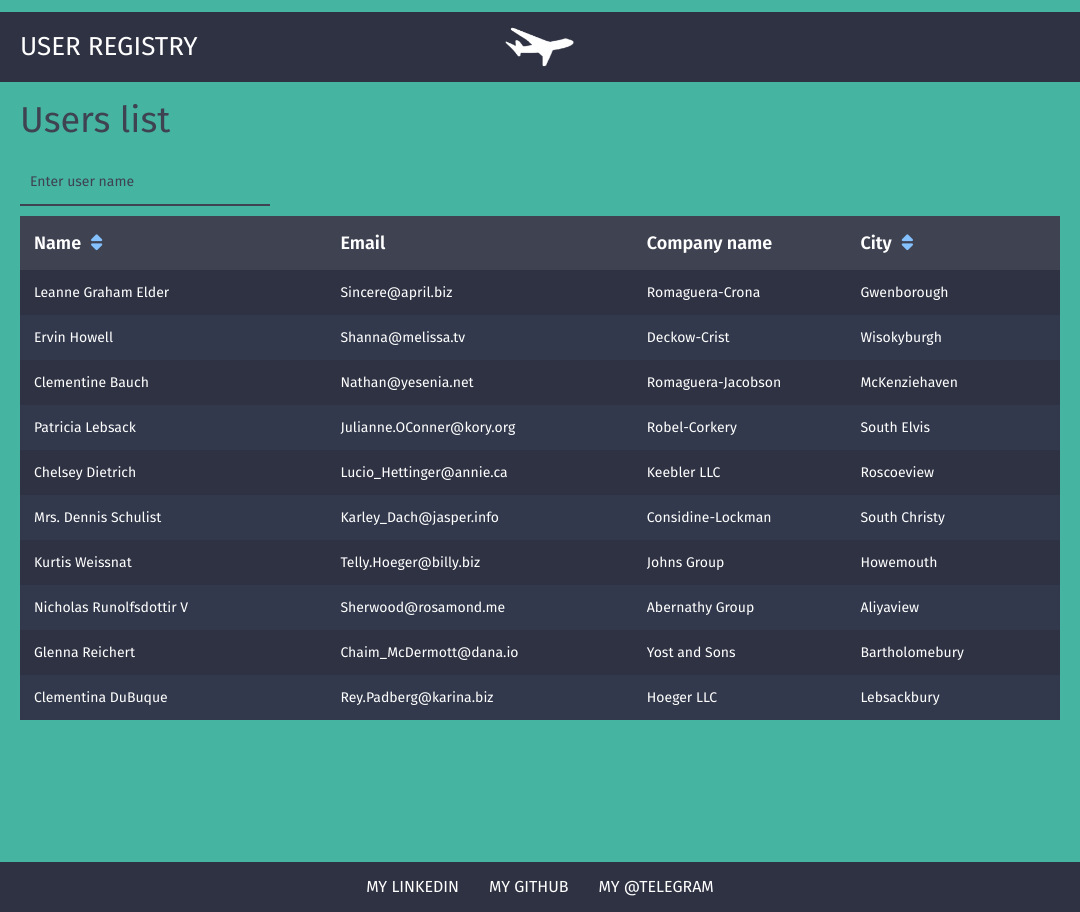
Test case: `User Page` › `initial loading` › should load right users
Check: the cell "Clementina DuBuque" is shown, box left=20, top=675, right=326, bottom=720
Click the row with test id "user" that starts with "Clementina DuBuque" at (540, 698), box left=20, top=675, right=1060, bottom=720
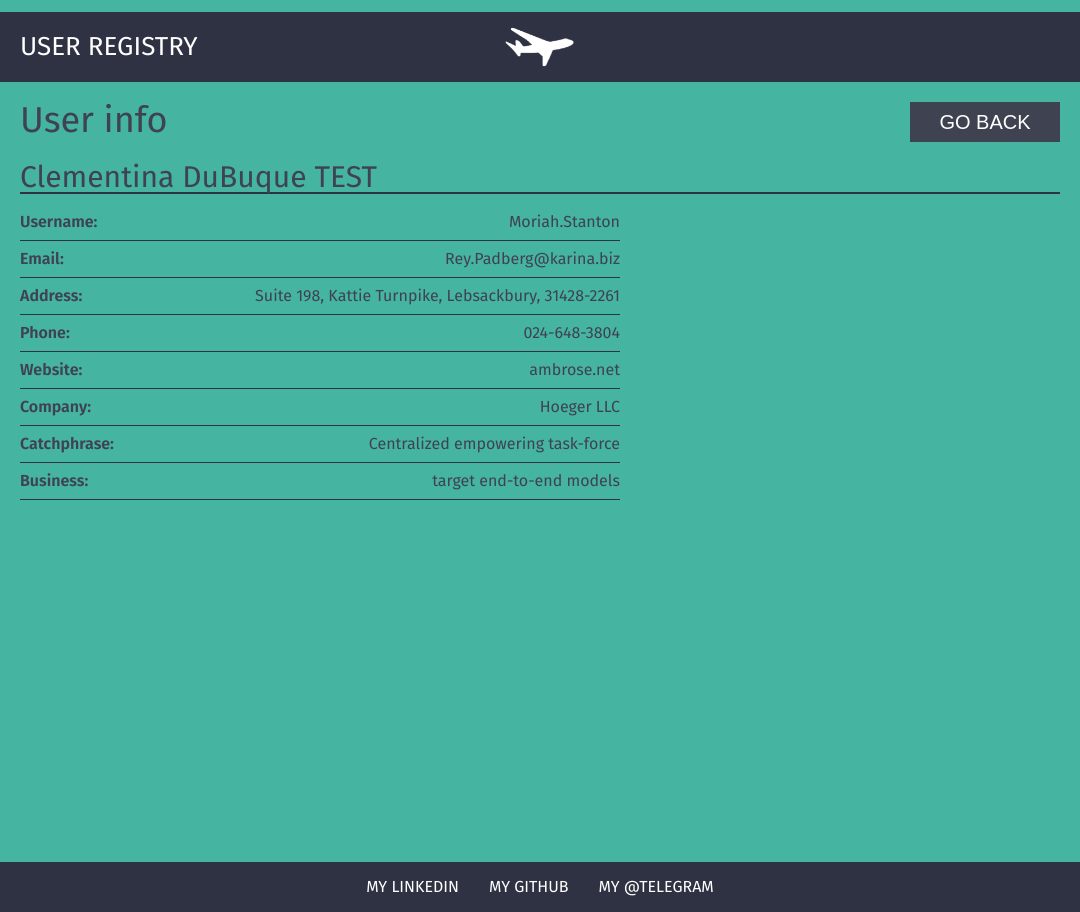
Check: the text with test id "user-card-name" reads "Moriah.Stanton", box left=509, top=212, right=620, bottom=231
